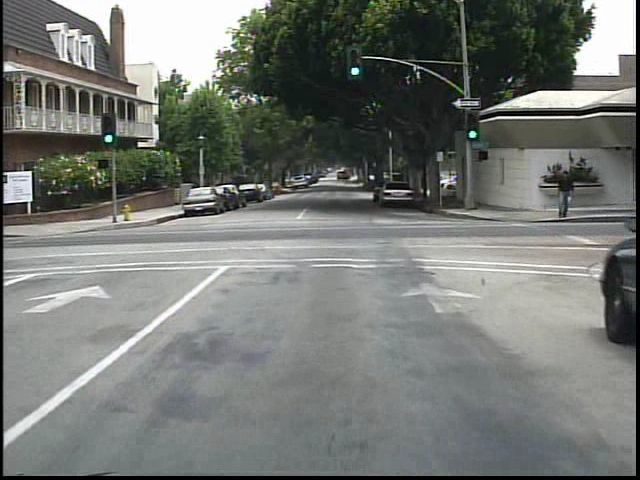person: (548, 168, 577, 220)
